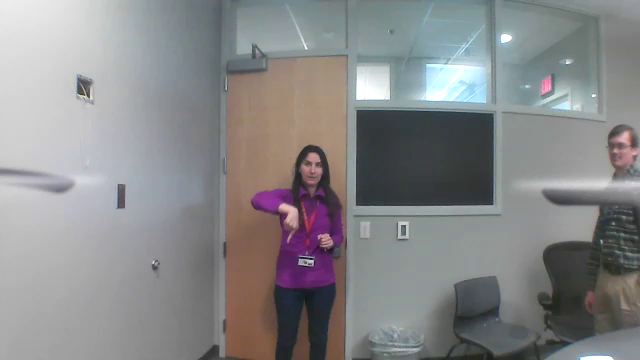down: (281, 203, 299, 250)
